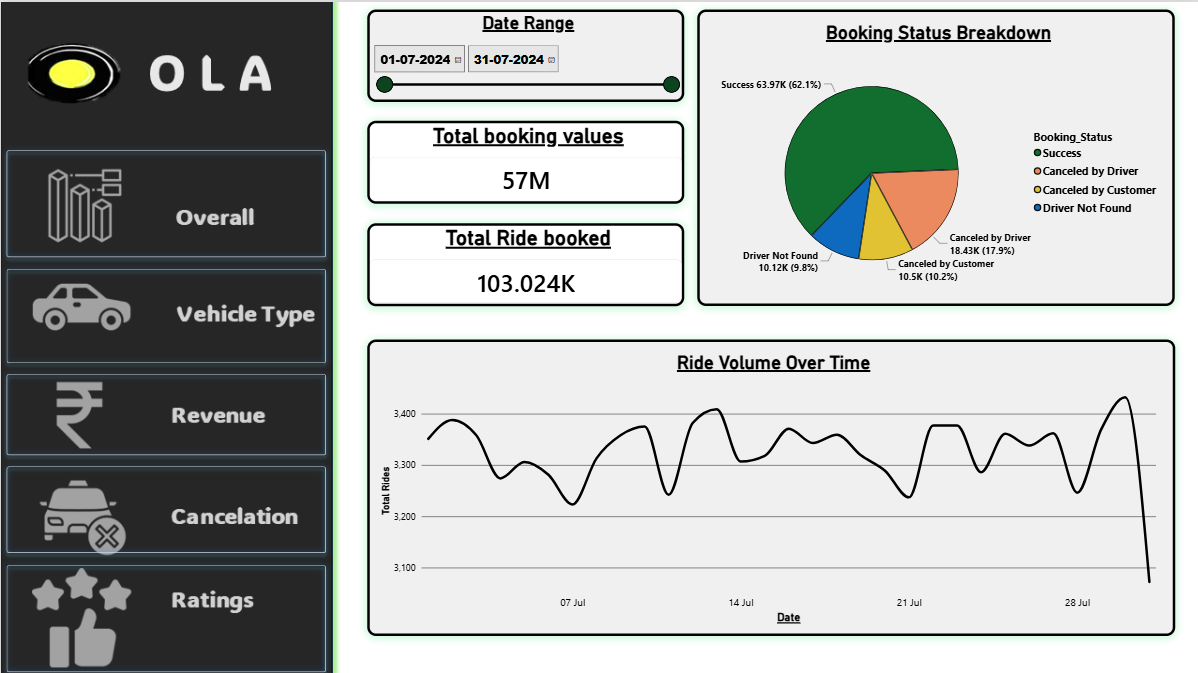

This screenshot's page, from the dashboard's own definition file:
{"tool":"powerbi","page":{"name":"Overall","canvas":[1920,1080],"ordinal":0},"visuals":[{"type":"actionButton","box":[0,228.5,529,189.4],"z":0},{"type":"actionButton","box":[0,586.6,529,148.2],"z":1000},{"type":"actionButton","box":[0,417.8,529,168.8],"z":2000},{"type":"actionButton","box":[0,891.3,529,189.4],"z":3000},{"type":"actionButton","box":[0,734.8,529,156.4],"z":4000},{"type":"lineChart","title":"Ride Volume Over Time","fields":{"Category":["Ola_data_clean.Date"],"Y":["CountNonNull(Ola_data_clean.Booking_ID)"]},"box":[586,540.7,1292.4,474.4],"z":5000},{"type":"slicer","title":"Date Range","fields":{"Values":["Ola_data_clean.Date"]},"box":[586,12.2,507.6,148.3],"z":6000},{"type":"pieChart","title":"Booking Status Breakdown","fields":{"Category":["Ola_data_clean.Booking_Status"],"Y":["CountNonNull(Ola_data_clean.Booking_ID)"]},"box":[1114.5,12.2,764,474.4],"z":7000},{"type":"cardVisual","title":"Total booking values","fields":{"Data":["Sum(Ola_data_clean.Booking_Value)"]},"box":[586,190.1,507.6,132.6],"z":8000},{"type":"cardVisual","title":"Total Ride booked","fields":{"Data":["CountNonNull(Ola_data_clean.Booking_ID)"]},"box":[586,354.1,507.6,132.6],"z":9000}]}

Visuals, with their boxes in screenshot pixels (x1, y1, x2, y2), scaled from the page's 1920x1080 canvas onto the 1198x673 screenshot:
actionButton: bbox=[0, 142, 330, 260]
actionButton: bbox=[0, 366, 330, 458]
actionButton: bbox=[0, 260, 330, 366]
actionButton: bbox=[0, 555, 330, 672]
actionButton: bbox=[0, 458, 330, 555]
"Ride Volume Over Time" lineChart: bbox=[366, 337, 1172, 633]
"Date Range" slicer: bbox=[366, 8, 682, 100]
"Booking Status Breakdown" pieChart: bbox=[695, 8, 1172, 303]
"Total booking values" cardVisual: bbox=[366, 118, 682, 201]
"Total Ride booked" cardVisual: bbox=[366, 221, 682, 303]
